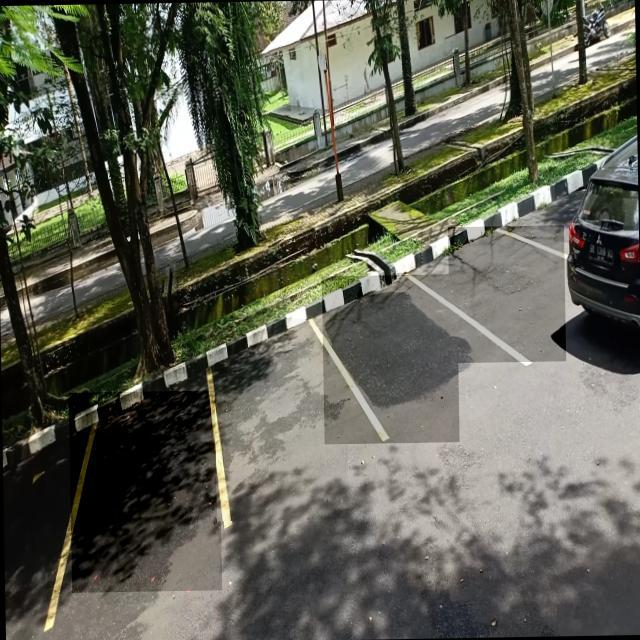empty: (68, 390, 222, 592), (214, 317, 348, 521), (321, 274, 459, 444), (447, 225, 566, 362)
